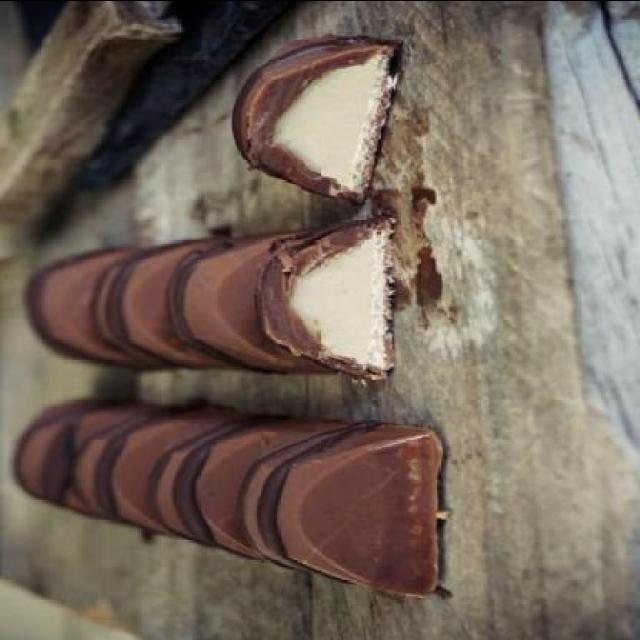Chocolate bar packaged: (10, 392, 448, 600), (24, 212, 401, 376), (232, 30, 403, 204)
